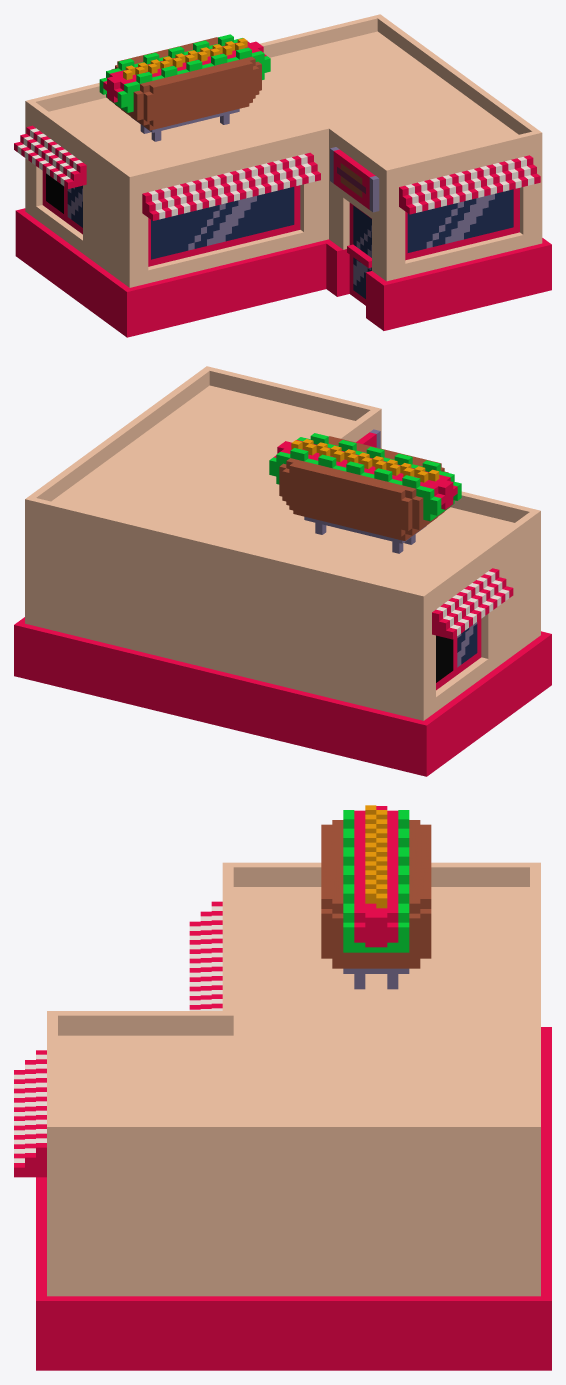
The model's file is hotdog_shop_b.obj.
3 renders of one model, top to bottom at view 1: azimuth 30°, elevation 25°; view 2: azimuth 150°, elevation 25°; view 3: azimuth 270°, elevation 25°, orthographic. The views are drawn at different scales.
Bounding box in the file's own units: 6.1 × 3.3 × 4.9.
1 material, 1 textured.
